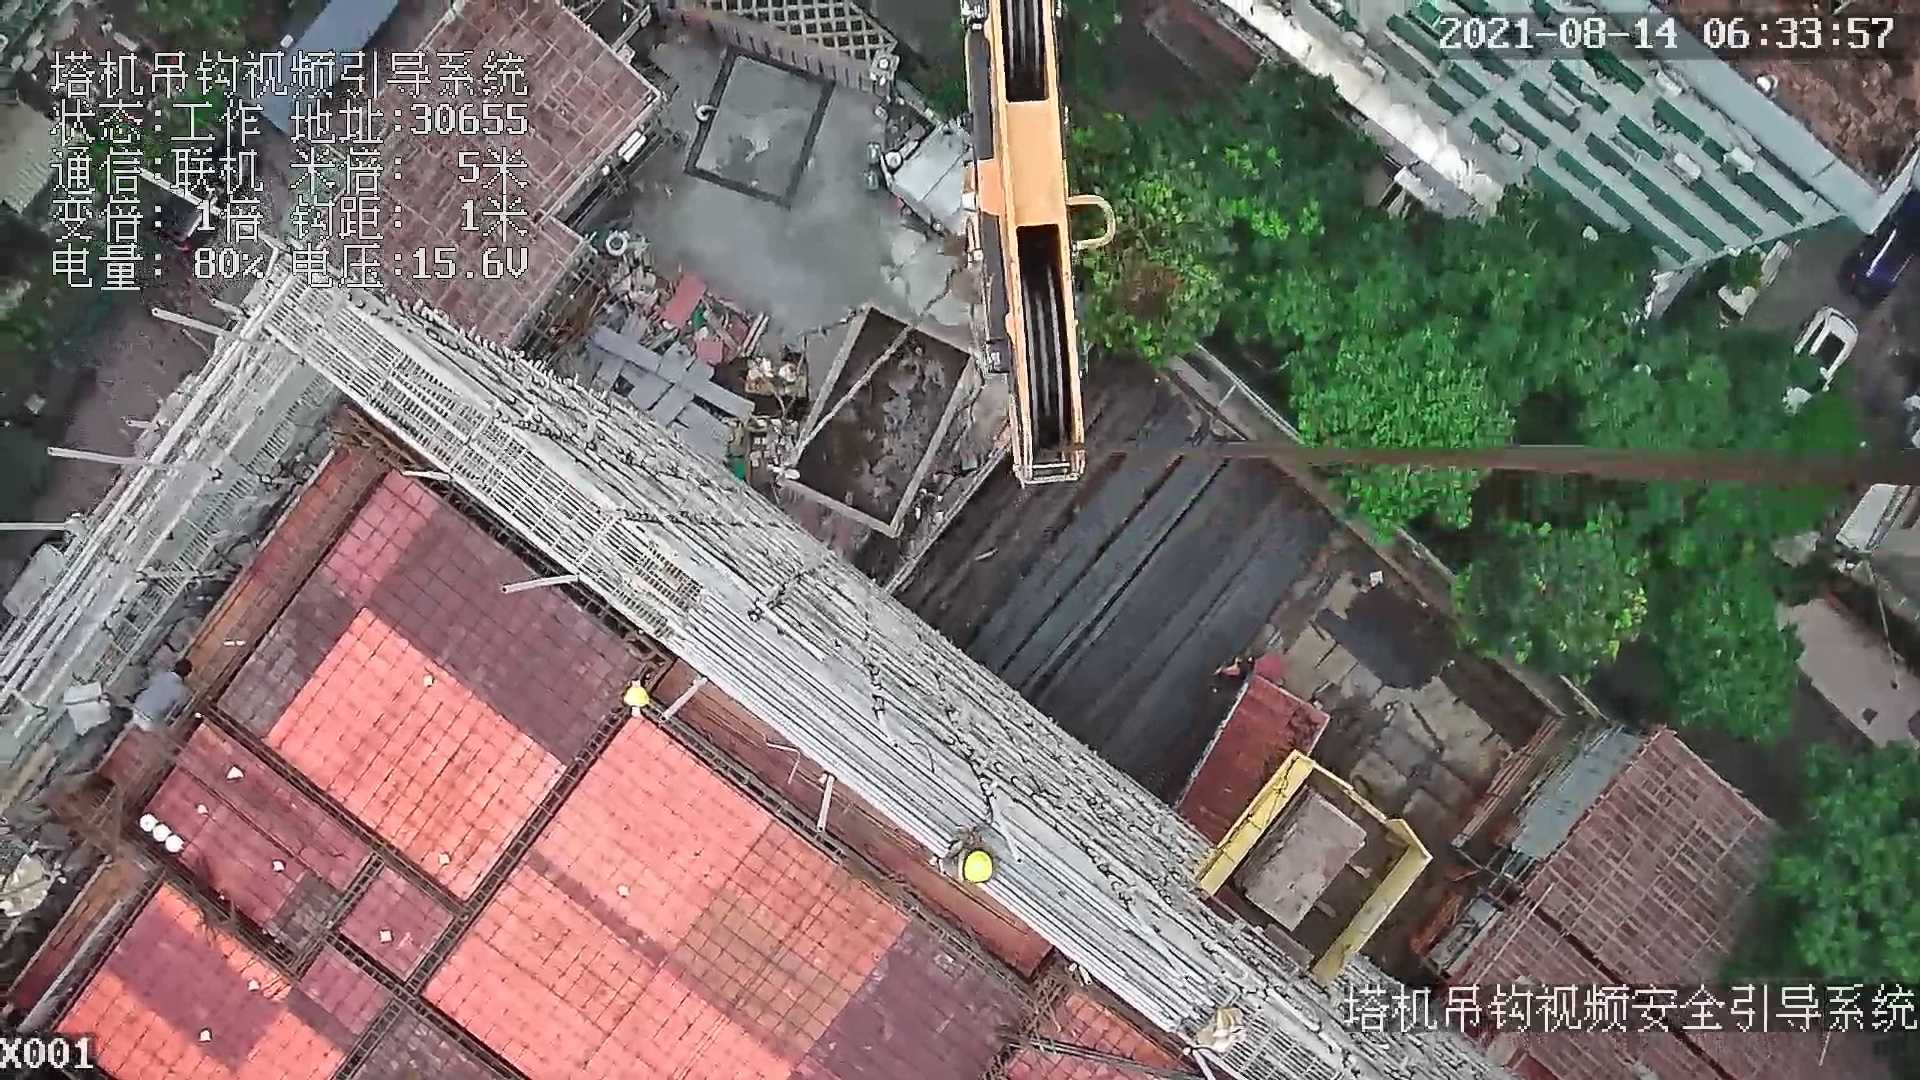helmet: (960, 851, 1002, 883), (615, 682, 664, 705)
hook: (951, 4, 1118, 491)
hopper: (787, 291, 978, 545)
person: (918, 799, 1013, 886)
